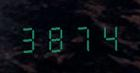eight: (44, 20, 69, 53)
four: (96, 19, 121, 52)
seven: (70, 19, 95, 52)
three: (18, 20, 43, 53)
